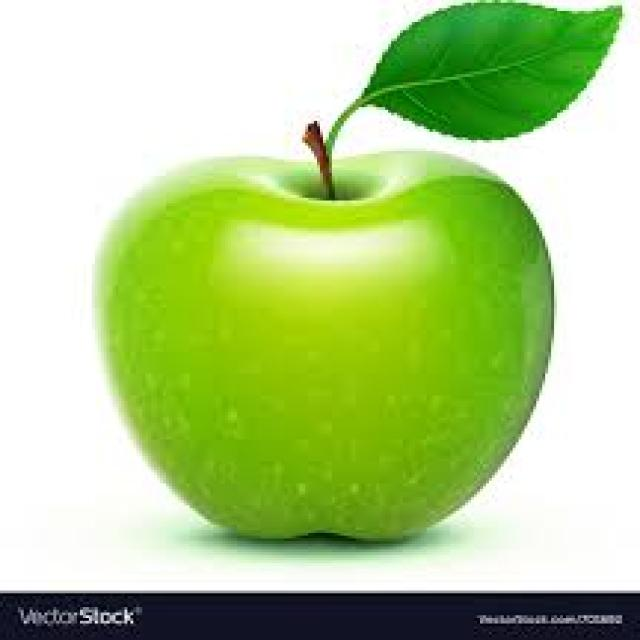50-_ripeness: (96, 130, 547, 558)
